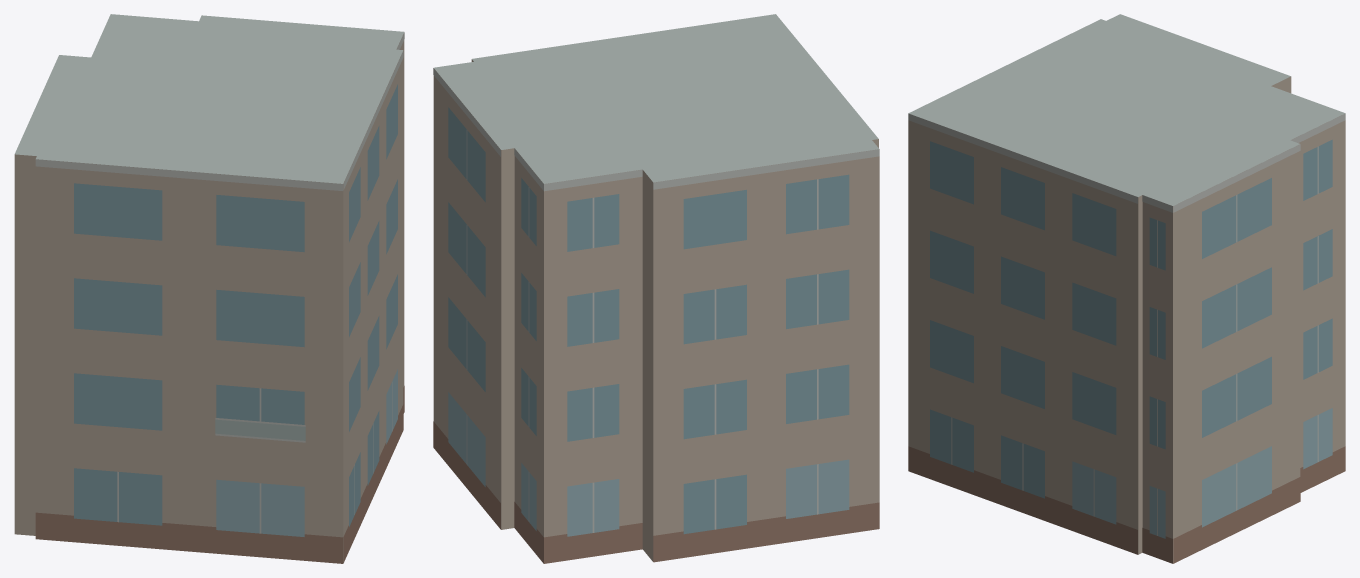
Rendered from survey-upis-32923251.glb.
3 views of the same model, side by side, from view 1: azimuth 30°, elevation 25°; view 2: azimuth 150°, elevation 25°; view 3: azimuth 270°, elevation 25° (orthographic). The views are drawn at different scales.
Visible parts, largest first — view 1: survey-upis-32923251.tmp; view 2: survey-upis-32923251.tmp; view 3: survey-upis-32923251.tmp.
Boxes of the visible parts, x1=… form: survey-upis-32923251.tmp: x1=14, y1=14, x2=404, y2=563; survey-upis-32923251.tmp: x1=433, y1=14, x2=879, y2=563; survey-upis-32923251.tmp: x1=908, y1=14, x2=1345, y2=563.
Size of the model in its own units: 14.75 by 12.8 by 14.19.
